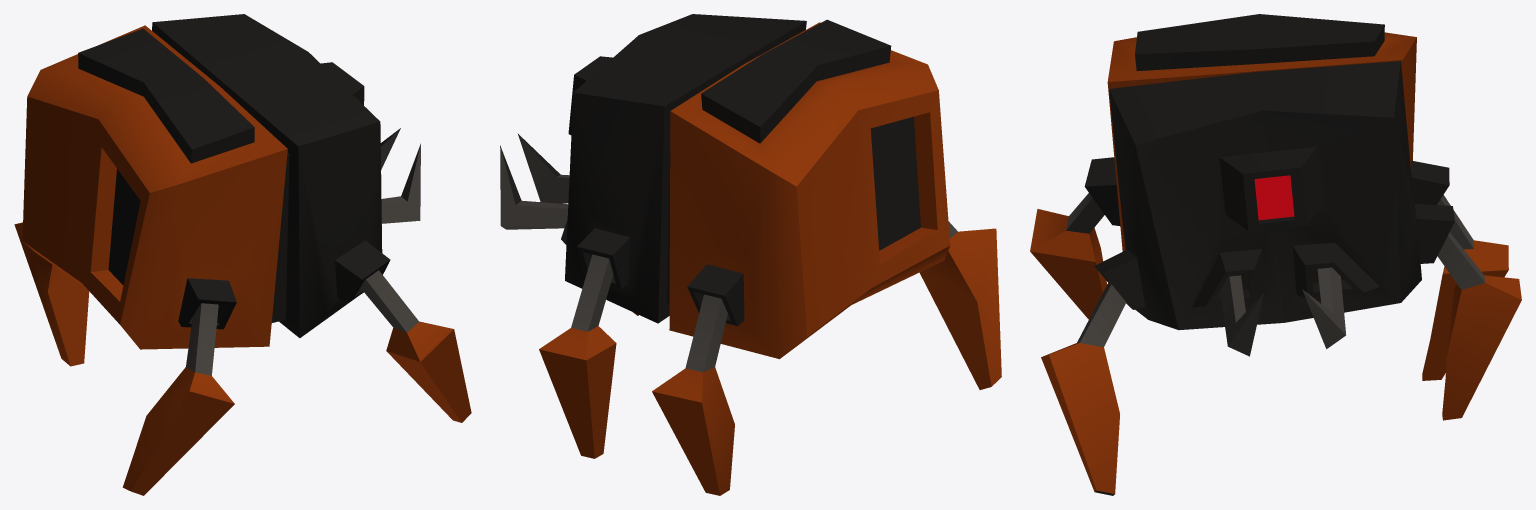
Rendered from SPIDBOT2.obj.
The picture shows the model from 3 angles, left to right: view 1: azimuth 30°, elevation 25°; view 2: azimuth 150°, elevation 25°; view 3: azimuth 270°, elevation 25°; orthographic projection. The views are drawn at different scales.
Visible parts, largest first — view 1: Cube.001; view 2: Cube.001; view 3: Cube.001.
Part boxes in pixels (x1=…): Cube.001: x1=14, y1=14, x2=471, y2=495; Cube.001: x1=500, y1=14, x2=1001, y2=495; Cube.001: x1=1030, y1=14, x2=1521, y2=495.
Size of what is drawn, in the model's own units: 3.14 by 2.78 by 3.44.
